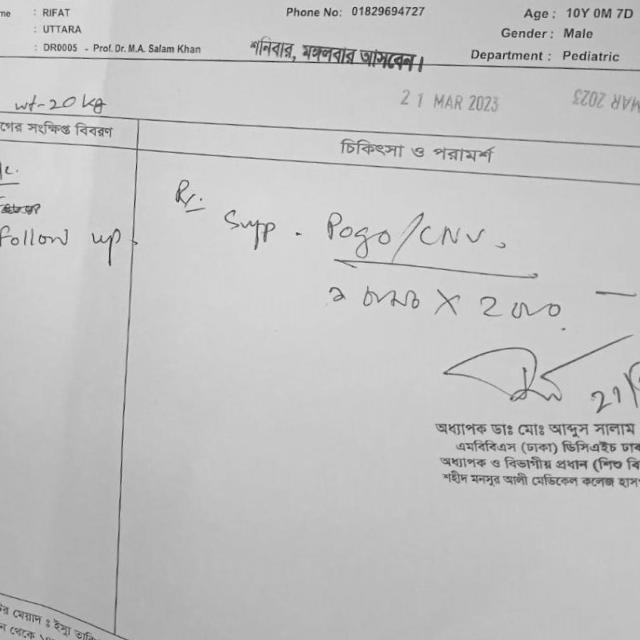medicine: (316, 208, 394, 254)
